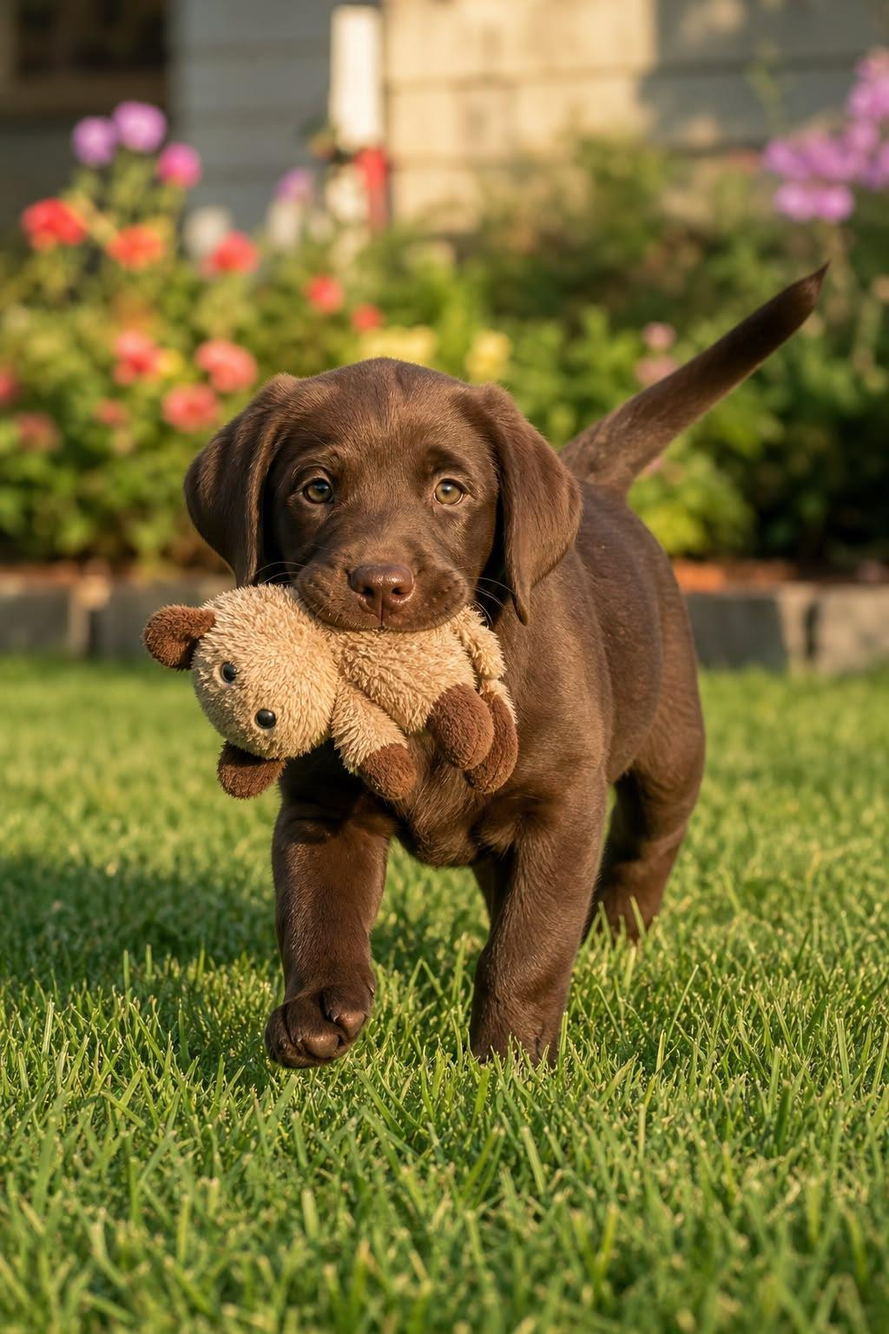dog: (186, 271, 822, 1066)
